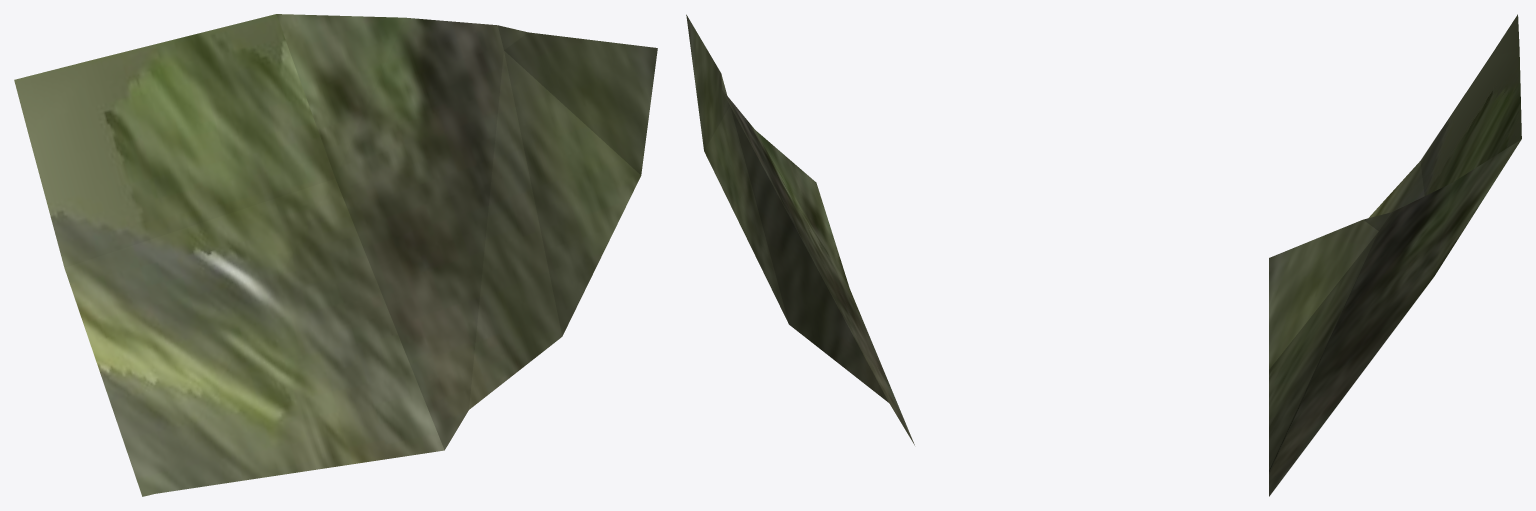
3 renders of one model, left to right at view 1: azimuth 30°, elevation 25°; view 2: azimuth 150°, elevation 25°; view 3: azimuth 270°, elevation 25°, orthographic. The views are drawn at different scales.
Size of the model in its own units: 2.57 by 1.67 by 1.13.
2 materials, 2 textured.
